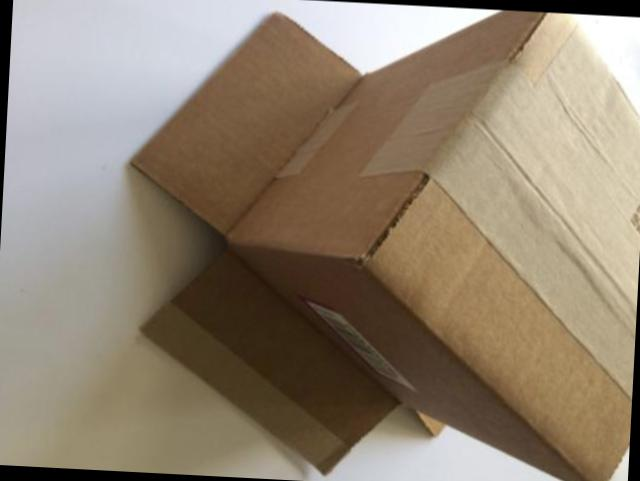cardboard paper: (127, 9, 640, 481)
